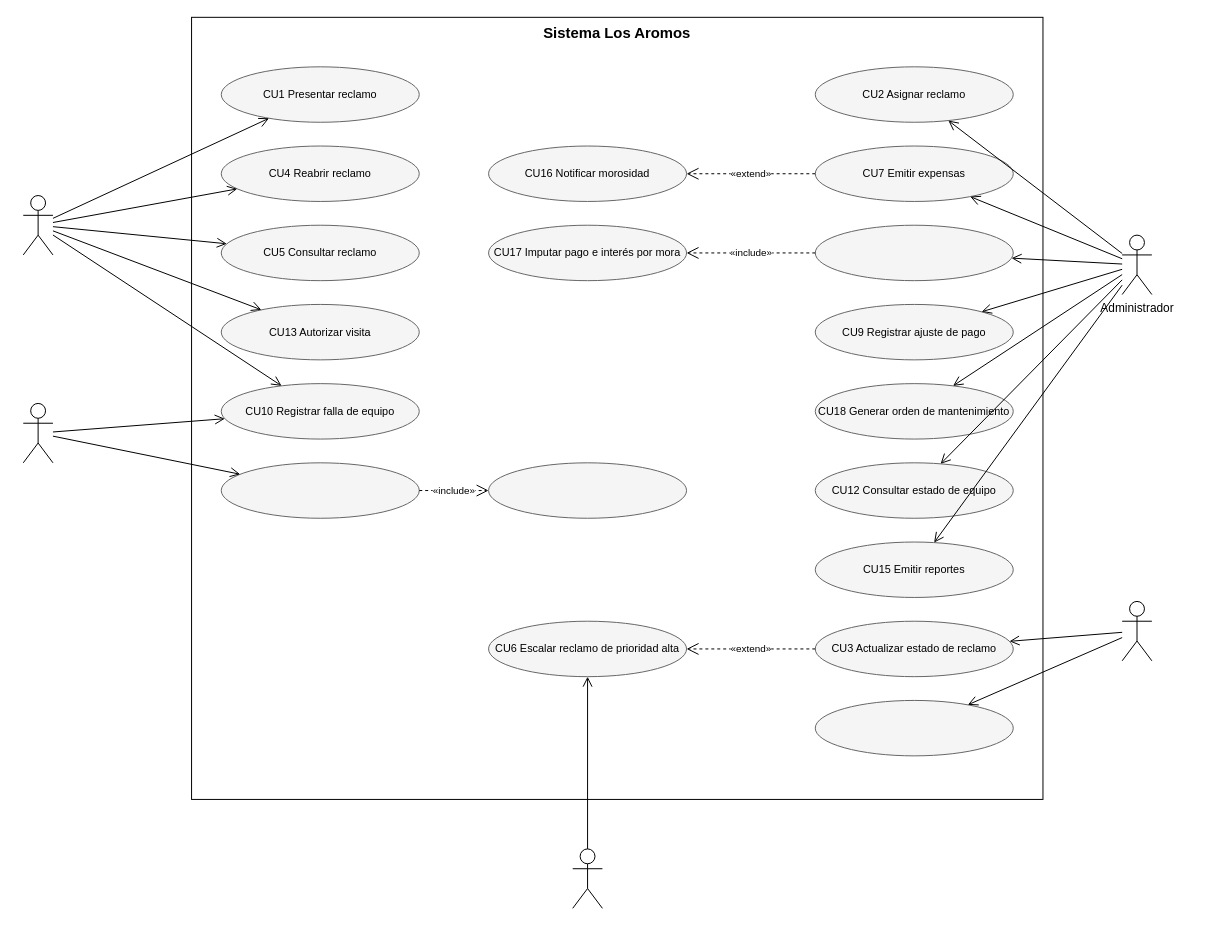
The diagram is 1227 pixels wide and 946 high, and some of its shapes have lost their labels. Each missing label, with the centre of its shape:
"CU11 Cerrar orden de mantenimiento" belongs at pixel 913 727.
"CU14 Registrar ingreso y egreso" belongs at pixel 319 490.
"CU19 Validar autorización" belongs at pixel 587 490.
"CU8 Registrar pago" belongs at pixel 913 252.
"Guardia" belongs at pixel 37 432.
"Personal de mantenimiento" belongs at pixel 1136 630.
"Reloj del sistema" belongs at pixel 587 878.
"Vecino" belongs at pixel 37 225.
